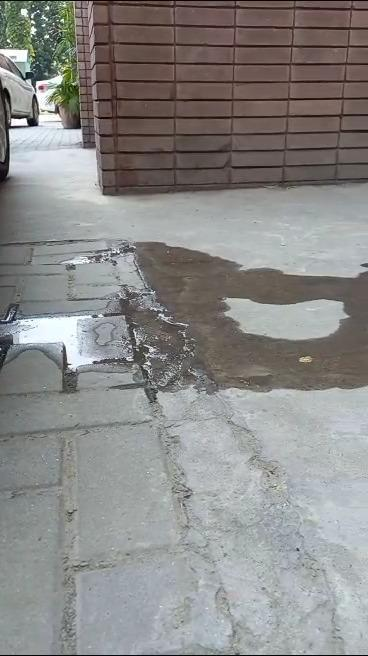water accumulation: (0, 238, 368, 395)
